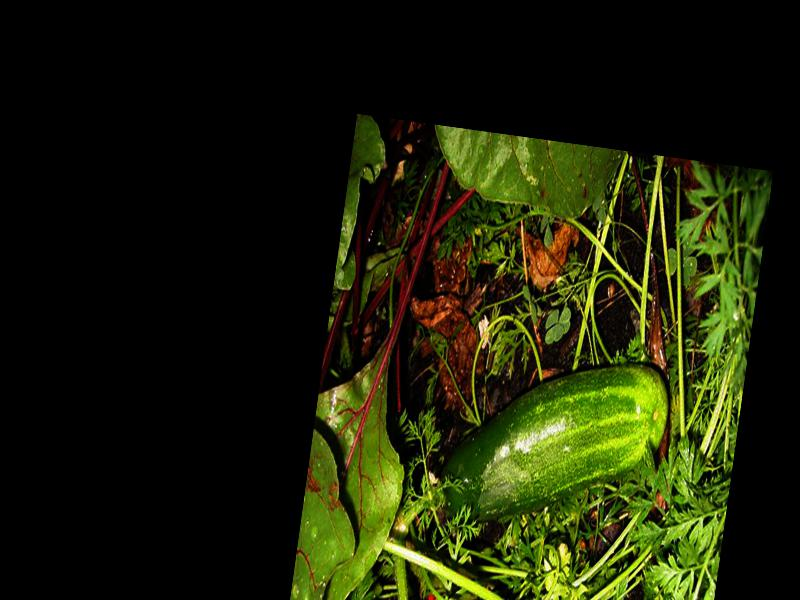Cucumber: (434, 337, 671, 553)
